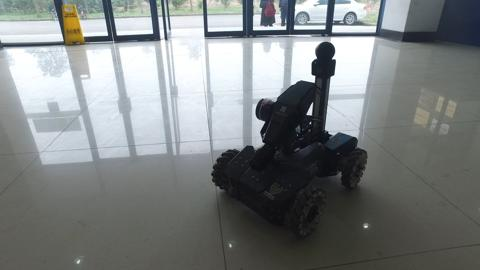car: (278, 1, 370, 26)
chariot: (209, 41, 369, 238)
